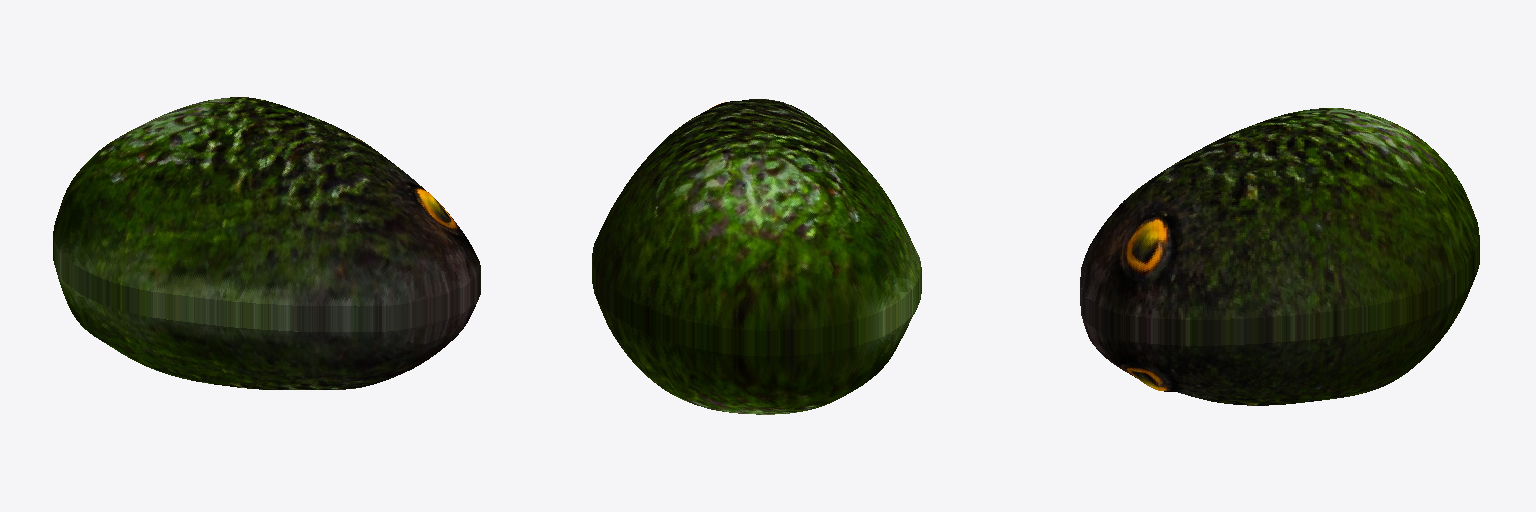
3 views of the same model, side by side, from view 1: azimuth 30°, elevation 25°; view 2: azimuth 150°, elevation 25°; view 3: azimuth 270°, elevation 25° (orthographic).
Visible parts, largest first — view 1: Grid; view 2: Grid; view 3: Grid.
Boxes of the visible parts, <box> form: Grid: <box>53,97,480,389</box>; Grid: <box>592,99,921,414</box>; Grid: <box>1080,108,1479,405</box>.
Size of the model in its own units: 1.54 by 1.2 by 1.69.
1 materials, 1 textured.